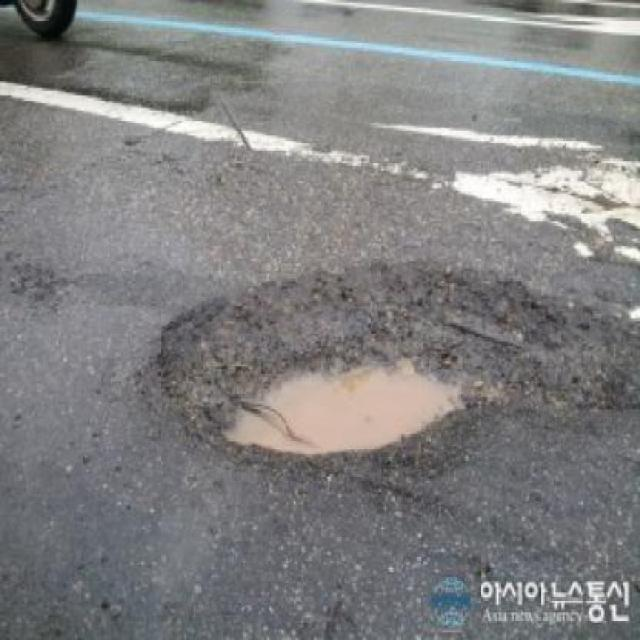Pothole: (150, 281, 542, 467)
